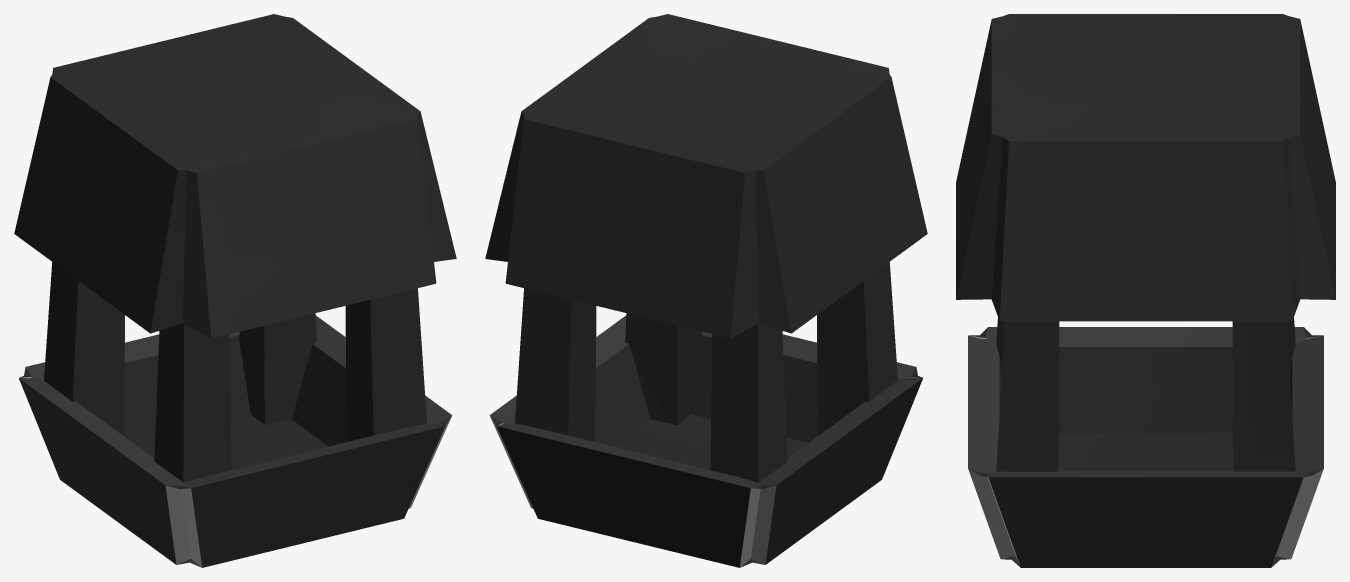
Rendered from lamp 1.fbx.
3 renders of one model, left to right at view 1: azimuth 30°, elevation 25°; view 2: azimuth 150°, elevation 25°; view 3: azimuth 270°, elevation 25°, orthographic. The views are drawn at different scales.
Visible parts, largest first — view 1: Cube, Cube.001, Cube.002; view 2: Cube, Cube.001, Cube.002; view 3: Cube, Cube.001, Cube.002.
Part boxes in pixels (box(x1,y1,x2,y2)): Cube: box(14, 14, 456, 338); Cube.001: box(19, 315, 452, 567); Cube.002: box(44, 262, 426, 482); Cube: box(485, 14, 927, 338); Cube.001: box(489, 315, 922, 567); Cube.002: box(515, 262, 897, 482); Cube: box(956, 14, 1335, 321); Cube.001: box(968, 327, 1323, 567); Cube.002: box(996, 317, 1295, 471).
Bounding box in the file's own units: 58.61 × 73.21 × 58.61.
